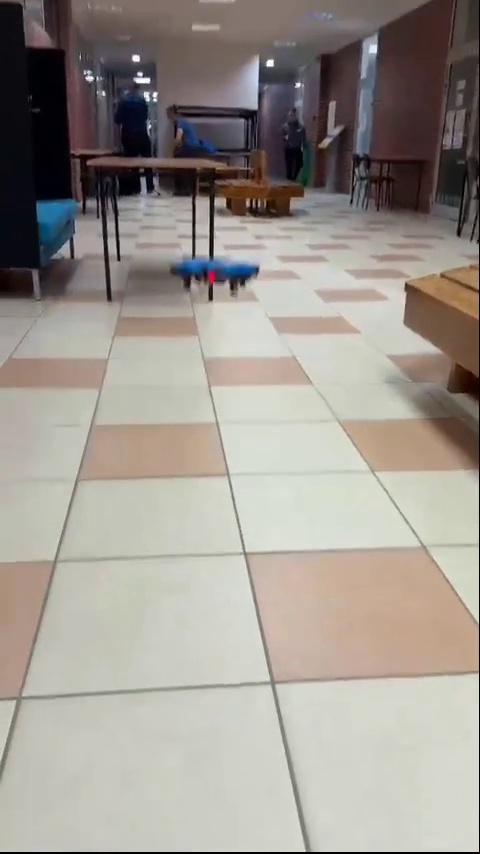drone: (180, 258, 258, 300)
no vest: (116, 75, 162, 198), (164, 102, 218, 189), (279, 103, 301, 190)
